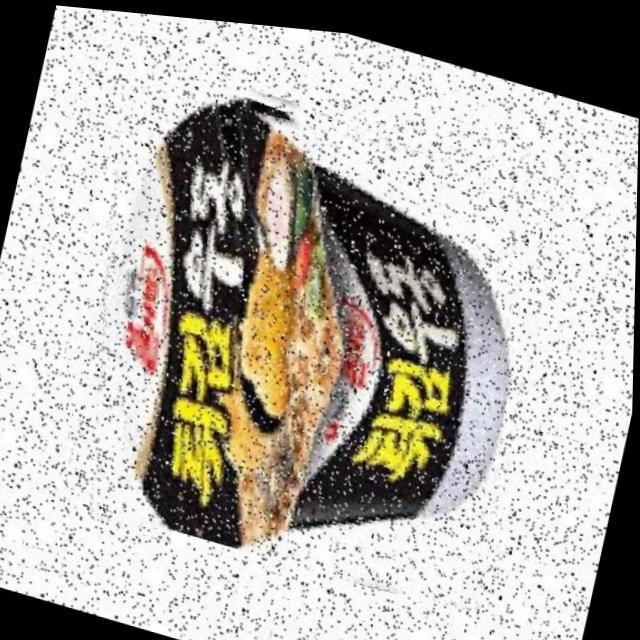Miscellaneous: (49, 35, 576, 614)
